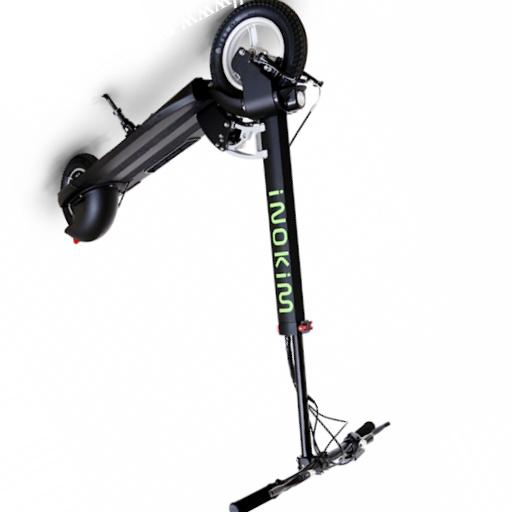scooter: (58, 1, 392, 512)
